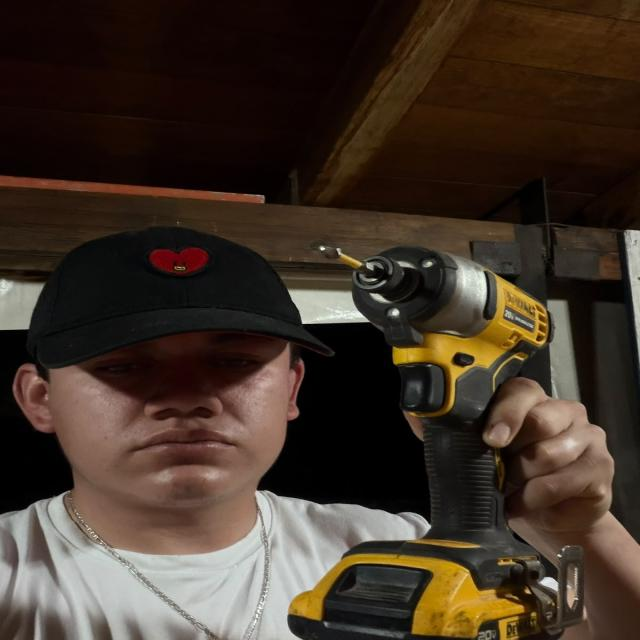Rotomartillo: (237, 206, 640, 640)
